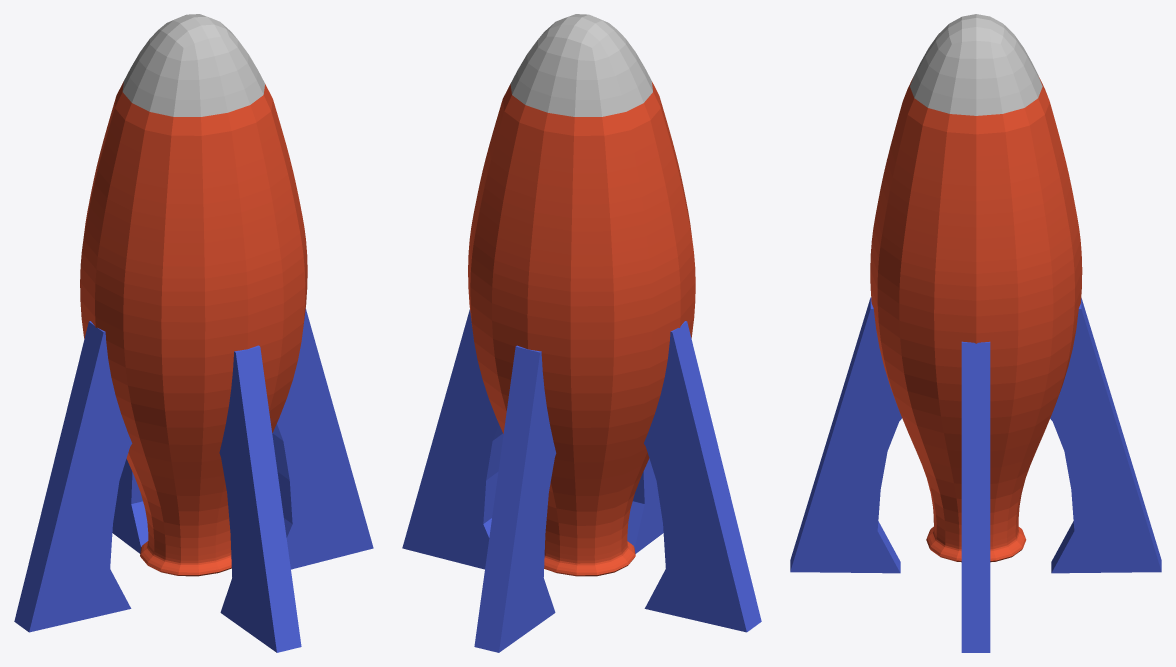
Rendered from PickupRocket.fbx.
The picture shows the model from 3 angles, left to right: view 1: azimuth 30°, elevation 25°; view 2: azimuth 150°, elevation 25°; view 3: azimuth 270°, elevation 25°; orthographic projection. The views are drawn at different scales.
Visible parts, largest first — view 1: Cube, Cube.003, Cube.001, Cube.004, Cube.002; view 2: Cube, Cube.003, Cube.002, Cube.004, Cube.001; view 3: Cube, Cube.001, Cube.002, Cube.004.
Part boxes in pixels (left/top/right/bottom): Cube: left=80, top=14, right=307, bottom=576; Cube.003: left=14, top=321, right=132, bottom=632; Cube.001: left=219, top=345, right=301, bottom=652; Cube.004: left=272, top=308, right=373, bottom=569; Cube.002: left=112, top=459, right=148, bottom=553; Cube: left=468, top=14, right=695, bottom=576; Cube.003: left=644, top=321, right=761, bottom=632; Cube.002: left=474, top=345, right=556, bottom=652; Cube.004: left=402, top=309, right=503, bottom=569; Cube.001: left=627, top=458, right=663, bottom=553; Cube: left=870, top=14, right=1082, bottom=562; Cube.001: left=790, top=297, right=901, bottom=573; Cube.002: left=1050, top=298, right=1161, bottom=573; Cube.004: left=961, top=341, right=990, bottom=652.
Size of the model in its own units: 112 by 177 by 108.
